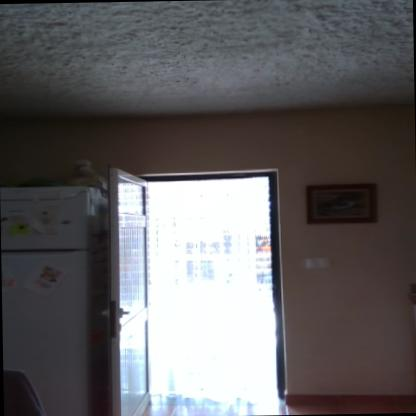open: (87, 150, 306, 411)
